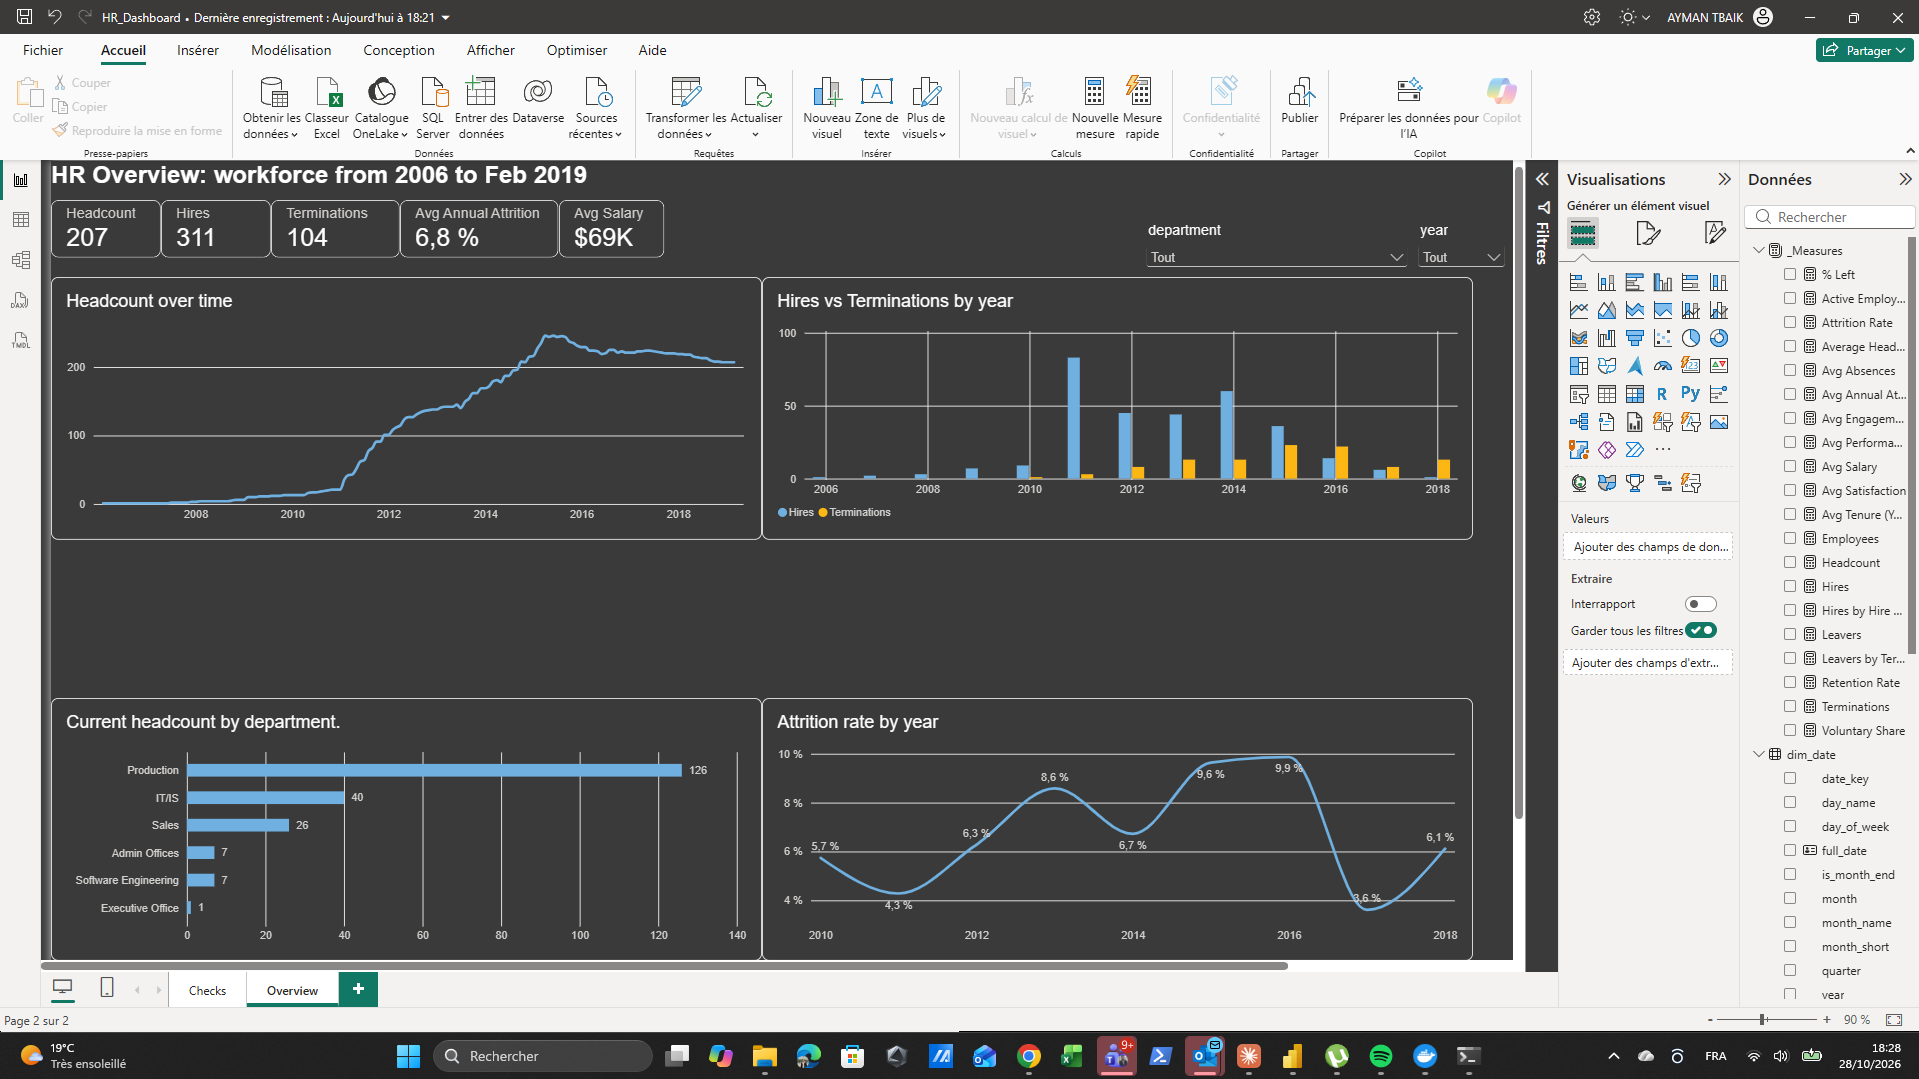

The dashboard page shown, as its layout file describes it:
{"tool":"powerbi","page":{"name":"Overview","canvas":[1920,1080],"ordinal":1},"visuals":[{"type":"shape","box":[0,0,1920,96],"z":0},{"type":"slicer","fields":{"Values":["dim_date.year"]},"box":[1644,12,240,72],"z":2000},{"type":"slicer","fields":{"Values":["dim_department.department_name"]},"box":[1320,12,300,72],"z":3000},{"type":"cardVisual","fields":{"Data":["_Measures.Headcount"]},"box":[36,120,348,135],"z":4000},{"type":"cardVisual","fields":{"Data":["_Measures.Hires"]},"box":[408,120,348,135],"z":5000},{"type":"cardVisual","fields":{"Data":["_Measures.Avg Annual Attrition"]},"box":[1152,120,348,135],"z":6000},{"type":"cardVisual","fields":{"Data":["_Measures.Terminations"]},"box":[780,120,348,135],"z":7000},{"type":"cardVisual","fields":{"Data":["_Measures.Avg Salary"]},"box":[1524,120,348,135],"z":8000},{"type":"lineChart","title":"Headcount over time","fields":{"Category":["dim_date.full_date"],"Y":["_Measures.Headcount"]},"box":[36,279,912,377],"z":9000},{"type":"clusteredColumnChart","title":"Hires vs Terminations by year","fields":{"Category":["dim_date.year"],"Y":["_Measures.Hires","_Measures.Terminations"]},"box":[972,279,912,377],"z":10000},{"type":"clusteredBarChart","title":"Current headcount by department.","fields":{"Category":["dim_department.department_name"],"Y":["_Measures.Headcount"]},"box":[36,680,912,377],"z":11000},{"type":"lineChart","title":"Attrition rate by year","fields":{"Category":["dim_date.year"],"Y":["_Measures.Attrition Rate"]},"box":[972,680,912,377],"z":12000}]}

Visuals, with their boxes on the page's 1920x1080 design canvas (x1, y1, x2, y2). These are canvas units, not pixel positions in the 1919x1079 screenshot, which may show the page scaled, cropped or inside an application window:
shape: (x1=0, y1=0, x2=1920, y2=96)
slicer - dim_date.year: (x1=1644, y1=12, x2=1884, y2=84)
slicer - dim_department.department_name: (x1=1320, y1=12, x2=1620, y2=84)
cardVisual - _Measures.Headcount: (x1=36, y1=120, x2=384, y2=255)
cardVisual - _Measures.Hires: (x1=408, y1=120, x2=756, y2=255)
cardVisual - _Measures.Avg Annual Attrition: (x1=1152, y1=120, x2=1500, y2=255)
cardVisual - _Measures.Terminations: (x1=780, y1=120, x2=1128, y2=255)
cardVisual - _Measures.Avg Salary: (x1=1524, y1=120, x2=1872, y2=255)
"Headcount over time" lineChart: (x1=36, y1=279, x2=948, y2=656)
"Hires vs Terminations by year" clusteredColumnChart: (x1=972, y1=279, x2=1884, y2=656)
"Current headcount by department." clusteredBarChart: (x1=36, y1=680, x2=948, y2=1057)
"Attrition rate by year" lineChart: (x1=972, y1=680, x2=1884, y2=1057)
